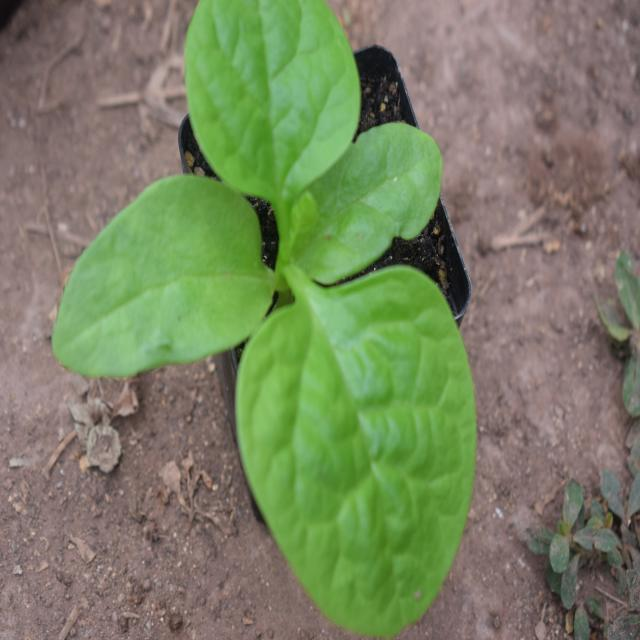Ceylon spinach: (75, 16, 467, 610)
